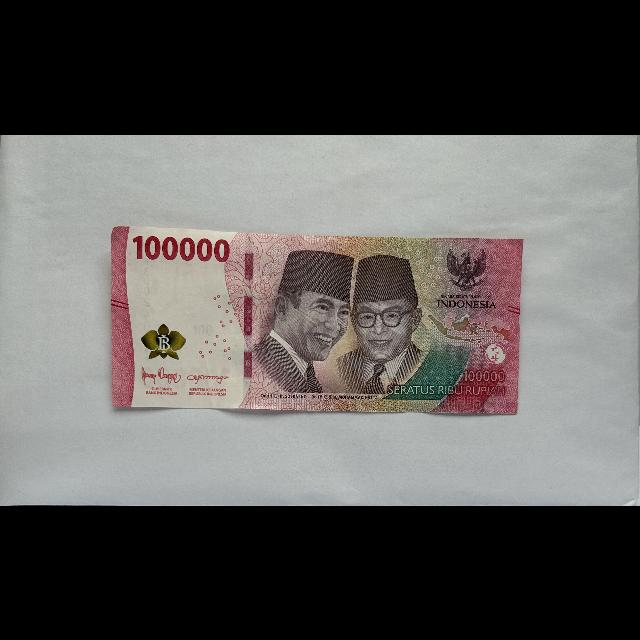Asli-100k: (110, 224, 525, 415)
Tinta-Asli-100k: (141, 322, 188, 361)
